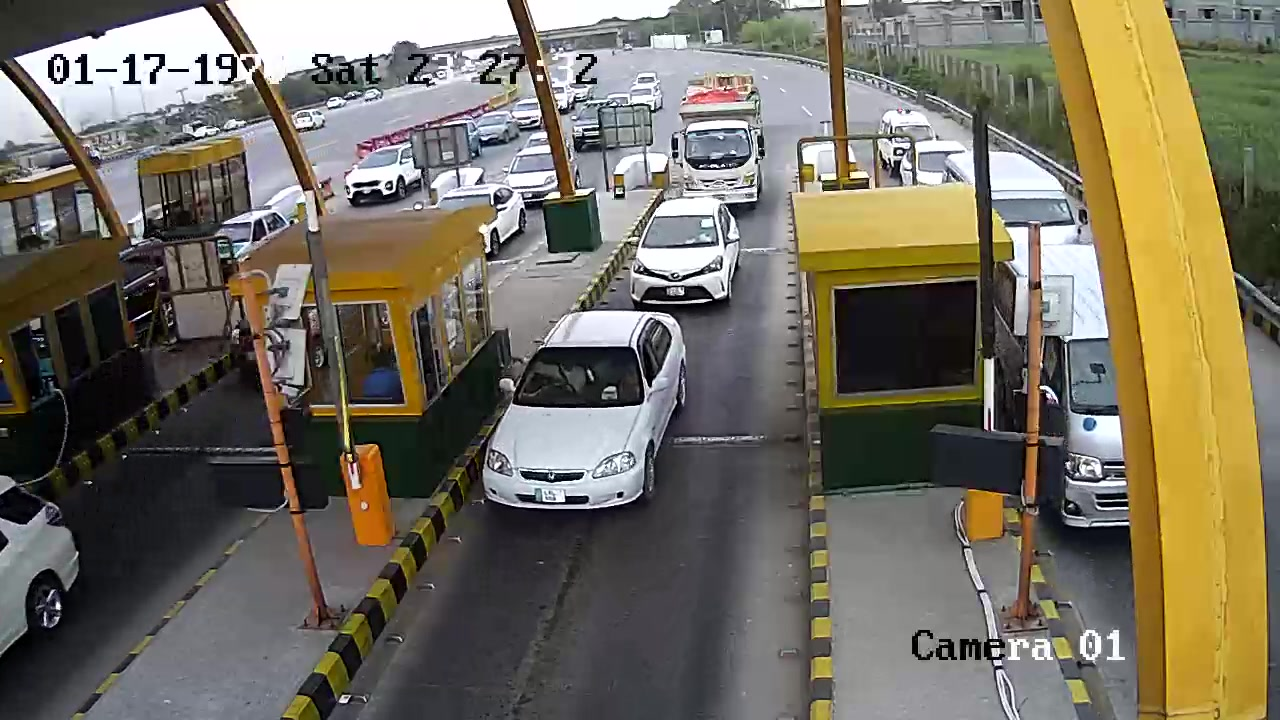F1: (483, 307, 693, 529), (621, 201, 751, 313)
